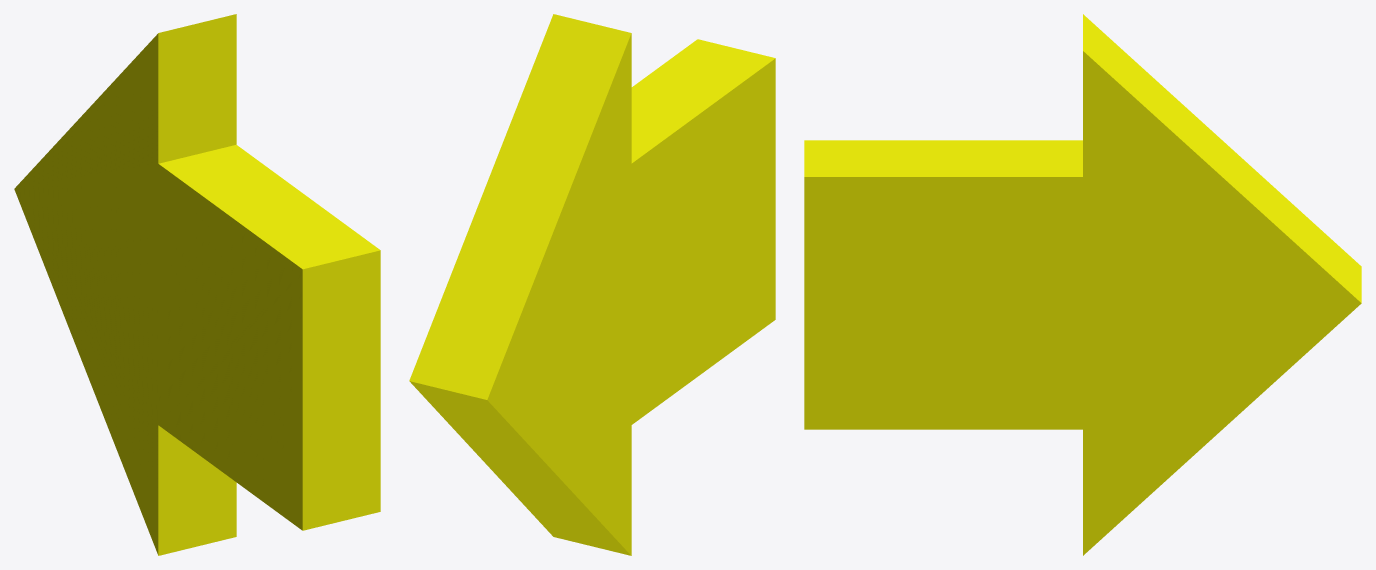
Rendered from arrow_down_yellow.obj.
The picture shows the model from 3 angles, left to right: view 1: azimuth 30°, elevation 25°; view 2: azimuth 150°, elevation 25°; view 3: azimuth 270°, elevation 25°; orthographic projection. The views are drawn at different scales.
Parts seen in each view (by area): view 1: unnamed_object1; view 2: unnamed_object1; view 3: unnamed_object1.
Part boxes in pixels (left/top/right/bottom): unnamed_object1: left=14, top=14, right=380, bottom=555; unnamed_object1: left=409, top=14, right=775, bottom=555; unnamed_object1: left=804, top=14, right=1361, bottom=555.
Bounding box in the file's own units: 0.25 × 1.6 × 1.6.
